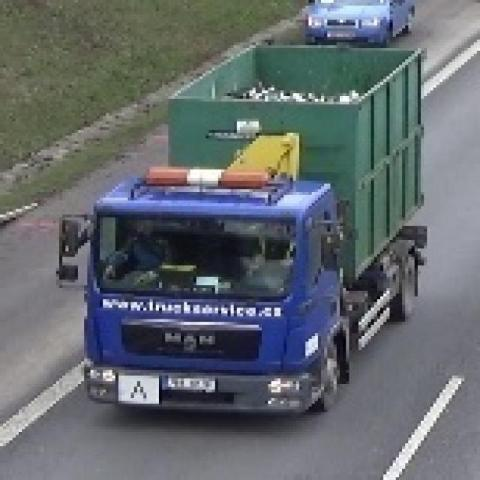truck: (56, 42, 433, 418)
